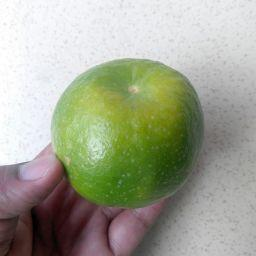Unripe: (54, 60, 203, 207)
